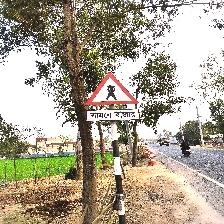Market-in-front: (84, 73, 140, 123)
